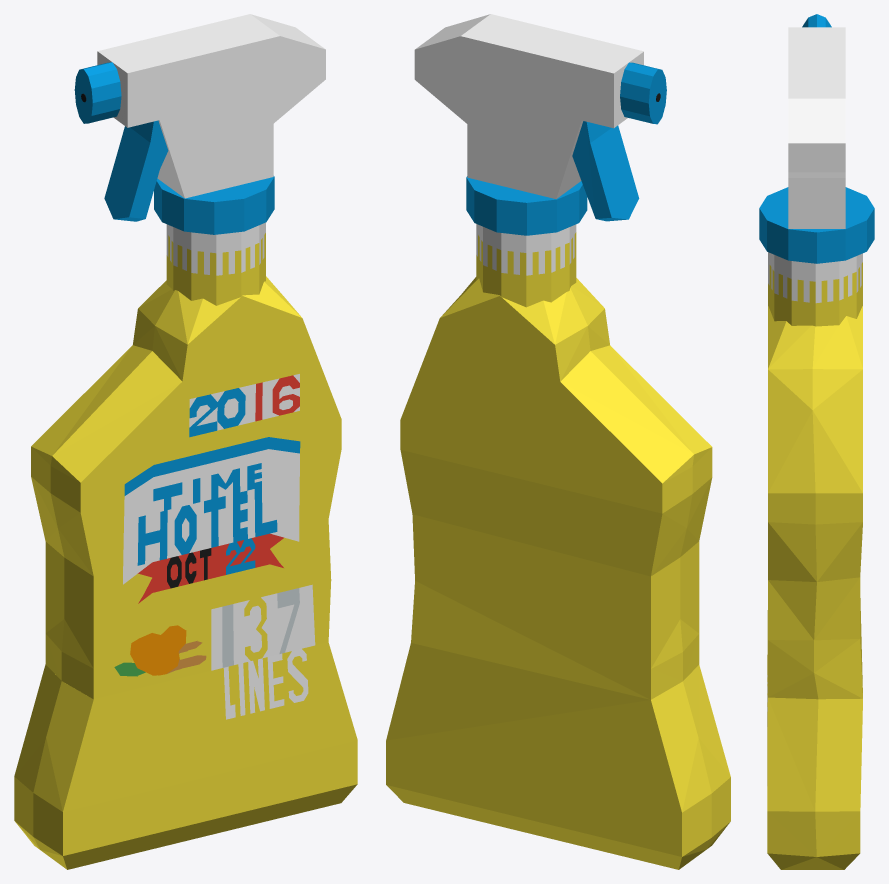
File: limpieza.fbx
The picture shows the model from 3 angles, left to right: view 1: azimuth 30°, elevation 25°; view 2: azimuth 150°, elevation 25°; view 3: azimuth 270°, elevation 25°; orthographic projection. The views are drawn at different scales.
Visible parts, largest first — view 1: group907148737, group213891247, group725267050, group51710340, group307408134, group668456900, group1131721816, group1334471471, group1897791292, group1409497348, group326314247, group2076814445; view 2: group907148737, group725267050, group213891247, group51710340, group307408134, group668456900, group1409497348, group1131721816, group1897791292, group1334471471, group326314247, group2076814445; view 3: group213891247, group907148737, group725267050, group51710340, group307408134, group668456900, group1131721816, group1409497348, group1334471471, group326314247, group2076814445.
Boxes of the visible parts, left/top/right/bottom form: group907148737: left=14, top=642, right=357, bottom=855; group213891247: left=31, top=276, right=341, bottom=482; group725267050: left=45, top=519, right=331, bottom=699; group51710340: left=31, top=419, right=341, bottom=576; group307408134: left=114, top=14, right=325, bottom=198; group668456900: left=166, top=222, right=265, bottom=305; group1131721816: left=154, top=176, right=274, bottom=234; group1334471471: left=15, top=784, right=357, bottom=869; group1897791292: left=104, top=120, right=168, bottom=221; group1409497348: left=185, top=124, right=273, bottom=198; group326314247: left=97, top=43, right=161, bottom=127; group2076814445: left=74, top=62, right=121, bottom=123; group907148737: left=386, top=643, right=730, bottom=856; group725267050: left=411, top=514, right=699, bottom=699; group213891247: left=400, top=277, right=711, bottom=483; group51710340: left=400, top=419, right=712, bottom=576; group307408134: left=414, top=14, right=627, bottom=198; group668456900: left=476, top=224, right=576, bottom=307; group1409497348: left=467, top=120, right=556, bottom=198; group1131721816: left=466, top=176, right=587, bottom=235; group1897791292: left=572, top=121, right=639, bottom=221; group1334471471: left=386, top=785, right=729, bottom=869; group326314247: left=580, top=43, right=643, bottom=128; group2076814445: left=620, top=62, right=666, bottom=124; group213891247: left=768, top=306, right=862, bottom=493; group907148737: left=767, top=610, right=862, bottom=856; group725267050: left=768, top=577, right=862, bottom=699; group51710340: left=768, top=493, right=862, bottom=581; group307408134: left=788, top=34, right=845, bottom=177; group668456900: left=768, top=252, right=862, bottom=326; group1131721816: left=759, top=187, right=874, bottom=263; group1409497348: left=788, top=178, right=845, bottom=228; group1334471471: left=767, top=853, right=859, bottom=869; group326314247: left=788, top=27, right=845, bottom=43; group2076814445: left=802, top=14, right=831, bottom=27.
Size of the model in its own units: 118 by 285 by 40.
